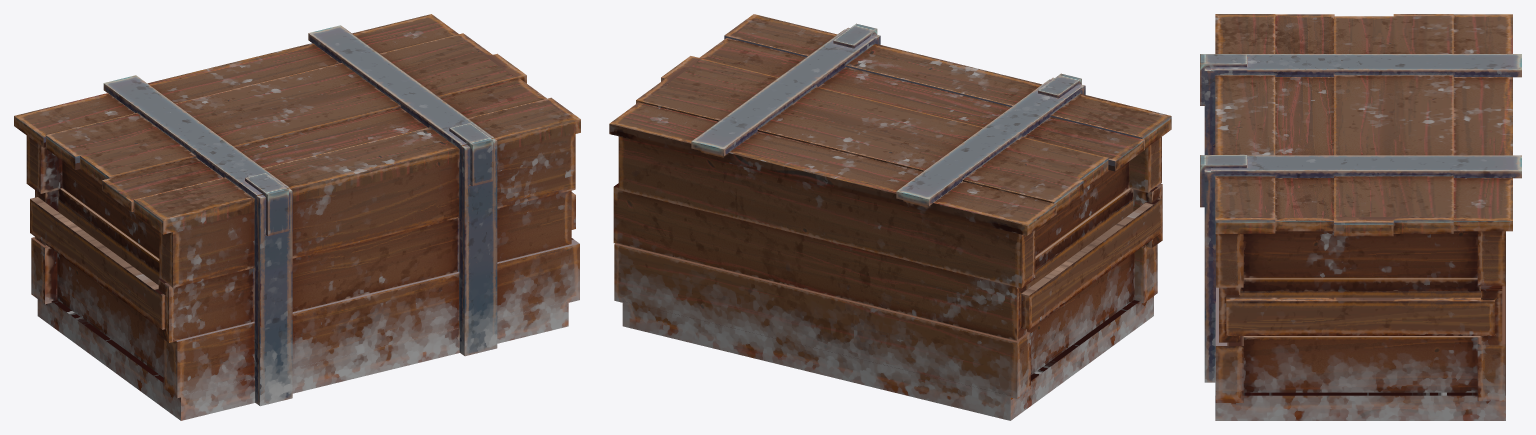
File: woodencrate.glb
3 renders of one model, left to right at view 1: azimuth 30°, elevation 25°; view 2: azimuth 150°, elevation 25°; view 3: azimuth 270°, elevation 25°, orthographic.
Visible parts, largest first — view 1: small_box; view 2: small_box; view 3: small_box.
Part boxes in pixels (x1,y1,x2,y2): small_box: (14,14,580,420); small_box: (609,14,1171,420); small_box: (1200,14,1521,420).
Size of the model in its own units: 3.61 by 1.72 by 2.34.
1 material, 1 textured.
